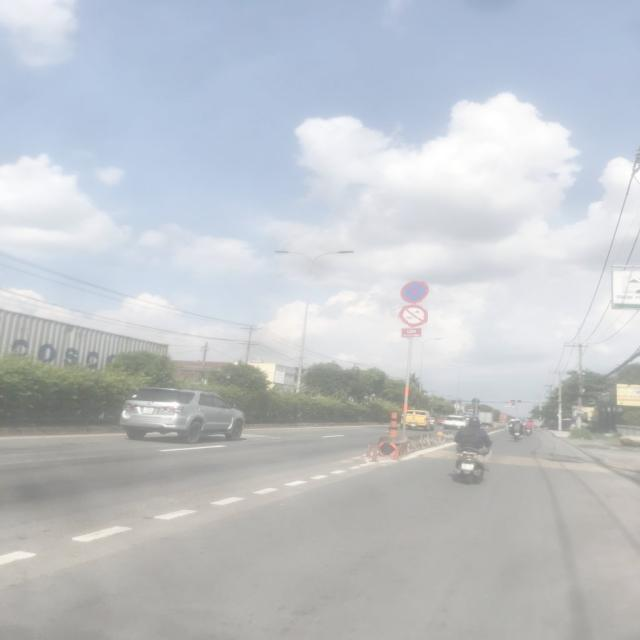cam_dung_xe_va_do_xe: (399, 281, 429, 304)
cam_xe_2_banh_va_xe_3_banh_co_dong_co: (397, 304, 428, 328)
